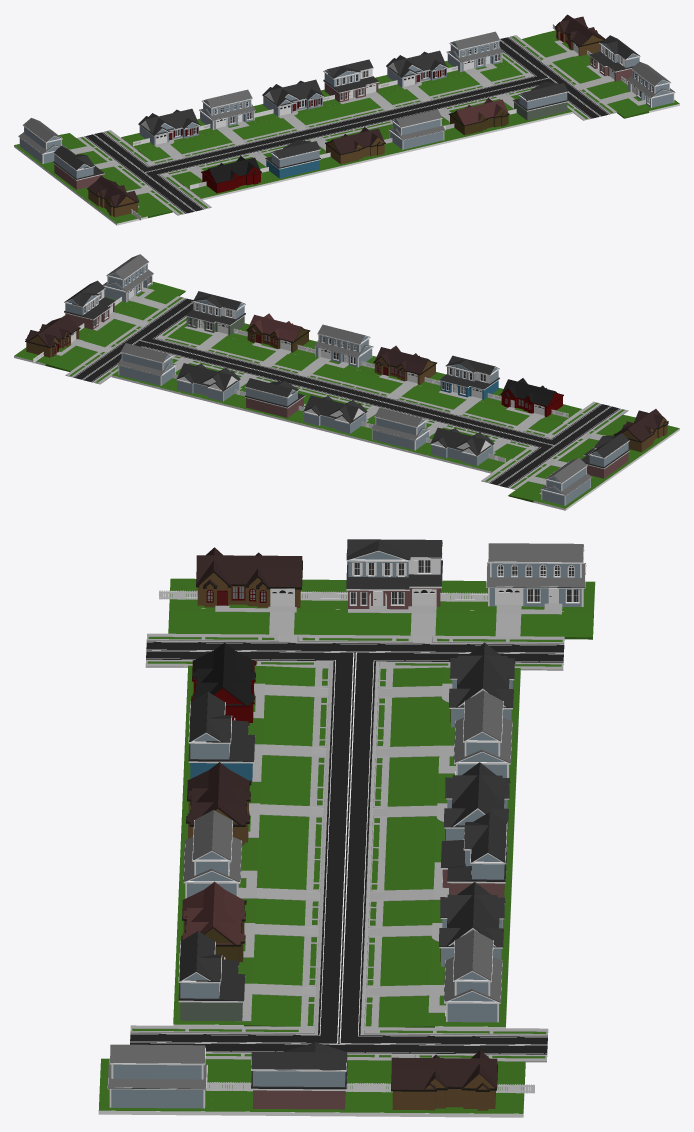
Rendered from city_lev3.glb.
3 views of the same model, one above another, from view 1: azimuth 30°, elevation 25°; view 2: azimuth 150°, elevation 25°; view 3: azimuth 270°, elevation 25° (orthographic). The views are drawn at different scales.
Visible parts, largest first — view 1: Object_30, Object_55, Object_46, Object_56, Object_29, Object_12, Object_48, Object_22, Object_27, Object_23, Object_26, Object_25 (+20 smaller); view 2: Object_30, Object_55, Object_46, Object_56, Object_29, Object_12, Object_48, Object_22, Object_25, Object_26, Object_27, Object_23 (+18 smaller); view 3: Object_30, Object_55, Object_56, Object_29, Object_12, Object_46, Object_48, Object_22, Object_26, Object_27, Object_25, Object_23 (+18 smaller).
Part boxes in pixels (x1,y1,x2,y2): Object_30: (59,32,648,218); Object_55: (84,37,609,213); Object_46: (20,41,673,178); Object_56: (53,35,639,179); Object_29: (77,35,616,214); Object_12: (14,30,679,223); Object_48: (18,31,674,153); Object_22: (87,14,605,206); Object_27: (77,36,645,192); Object_23: (88,24,603,217); Object_26: (70,37,586,215); Object_25: (151,40,616,200); Object_30: (45,283,635,502); Object_55: (73,298,620,487); Object_46: (65,264,628,505); Object_56: (64,280,629,468); Object_29: (66,296,628,489); Object_12: (14,281,679,508); Object_48: (102,254,591,495); Object_22: (26,314,667,441); Object_25: (56,297,608,448); Object_26: (72,318,628,494); Object_27: (65,287,597,489); Object_23: (26,330,667,452); Object_30: (100,608,593,1083); Object_55: (130,641,564,1054); Object_56: (178,539,515,1089); Object_29: (130,613,564,1061); Object_12: (98,578,594,1113); Object_46: (111,551,584,1108); Object_48: (108,543,585,1089); Object_22: (187,547,497,1089); Object_26: (145,603,562,1060); Object_27: (187,637,564,1062); Object_25: (130,637,491,1055); Object_23: (188,572,495,1110).
Bounding box in the file's own units: 494 × 24.06 × 194.
